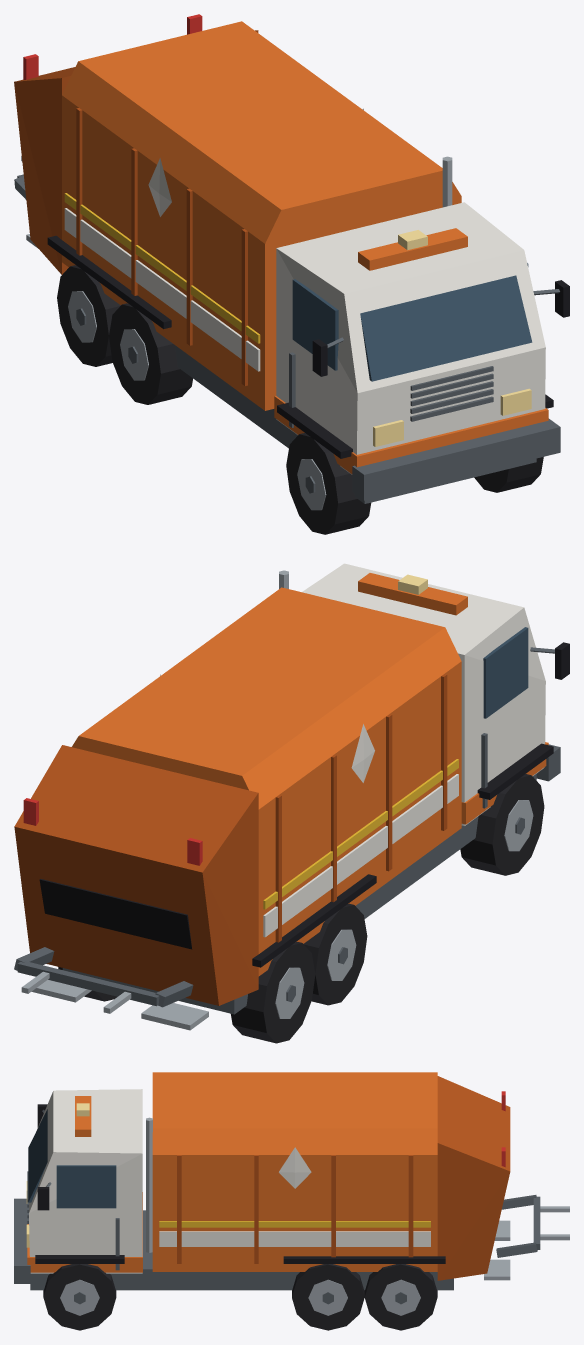
Rendered from camion_basura.glb.
3 views of the same model, one above another, from view 1: azimuth 30°, elevation 25°; view 2: azimuth 150°, elevation 25°; view 3: azimuth 270°, elevation 25° (orthographic). The views are drawn at different scales.
Parts seen in each view (by area): view 1: camion_basura_camion, camion_basura_blanco, camion_basura_cristal, camion_basura_metal_osc, camion_basura_camion_osc, rueda_del_izq_goma, rueda_tras1_izq_goma, camion_basura_negro, rueda_tras2_izq_goma, camion_basura_lazo_amarillo, camion_basura_faro, rueda_del_der_goma (+4 smaller); view 2: camion_basura_camion, camion_basura_camion_osc, camion_basura_blanco, camion_basura_negro, camion_basura_metal_osc, rueda_del_izq_goma, rueda_tras2_izq_goma, rueda_tras1_izq_goma, camion_basura_cristal, brazo_metal_osc, camion_basura_metal, camion_basura_lazo_amarillo (+5 smaller); view 3: camion_basura_camion, camion_basura_blanco, camion_basura_camion_osc, camion_basura_metal_osc, camion_basura_cristal, rueda_del_der_goma, rueda_tras2_der_goma, rueda_tras1_der_goma, camion_basura_negro, camion_basura_lazo_amarillo, camion_basura_metal, brazo_metal_osc (+4 smaller).
Boxes of the visible parts, box(x1,y1,x2,y2) form: camion_basura_camion: box(62, 21, 548, 473); camion_basura_blanco: box(64, 108, 545, 474); camion_basura_cristal: box(292, 263, 532, 381); camion_basura_metal_osc: box(175, 289, 560, 503); camion_basura_camion_osc: box(14, 30, 258, 385); rueda_del_izq_goma: box(286, 433, 371, 534); rueda_tras1_izq_goma: box(109, 303, 192, 404); camion_basura_negro: box(47, 235, 569, 458); rueda_tras2_izq_goma: box(57, 265, 120, 366); camion_basura_lazo_amarillo: box(64, 193, 260, 343); camion_basura_faro: box(373, 230, 531, 446); rueda_del_der_goma: box(474, 457, 543, 492); camion_basura_camion: box(72, 573, 548, 976); camion_basura_camion_osc: box(14, 674, 447, 1005); camion_basura_blanco: box(160, 563, 545, 937); camion_basura_negro: box(39, 642, 569, 967); camion_basura_metal_osc: box(62, 647, 560, 1014); rueda_del_izq_goma: box(460, 774, 544, 875); rueda_tras2_izq_goma: box(231, 942, 315, 1043); rueda_tras1_izq_goma: box(304, 903, 367, 1005); camion_basura_cristal: box(483, 627, 528, 718); brazo_metal_osc: box(14, 947, 193, 1007); camion_basura_metal: box(31, 570, 288, 1030); camion_basura_lazo_amarillo: box(263, 759, 458, 909); camion_basura_camion: box(27, 1072, 437, 1272); camion_basura_blanco: box(29, 1089, 430, 1273); camion_basura_camion_osc: box(177, 1076, 510, 1280); camion_basura_metal_osc: box(14, 1109, 453, 1290); camion_basura_cristal: box(28, 1109, 116, 1208); rueda_del_der_goma: box(43, 1264, 116, 1330); rueda_tras2_der_goma: box(364, 1264, 437, 1330); rueda_tras1_der_goma: box(292, 1264, 364, 1330); camion_basura_negro: box(35, 1104, 445, 1263); camion_basura_lazo_amarillo: box(159, 1221, 430, 1227); camion_basura_metal: box(146, 1117, 510, 1280); brazo_metal_osc: box(496, 1195, 540, 1257).
Bounding box in the file's own units: 3.04 × 3.4 × 8.39.
